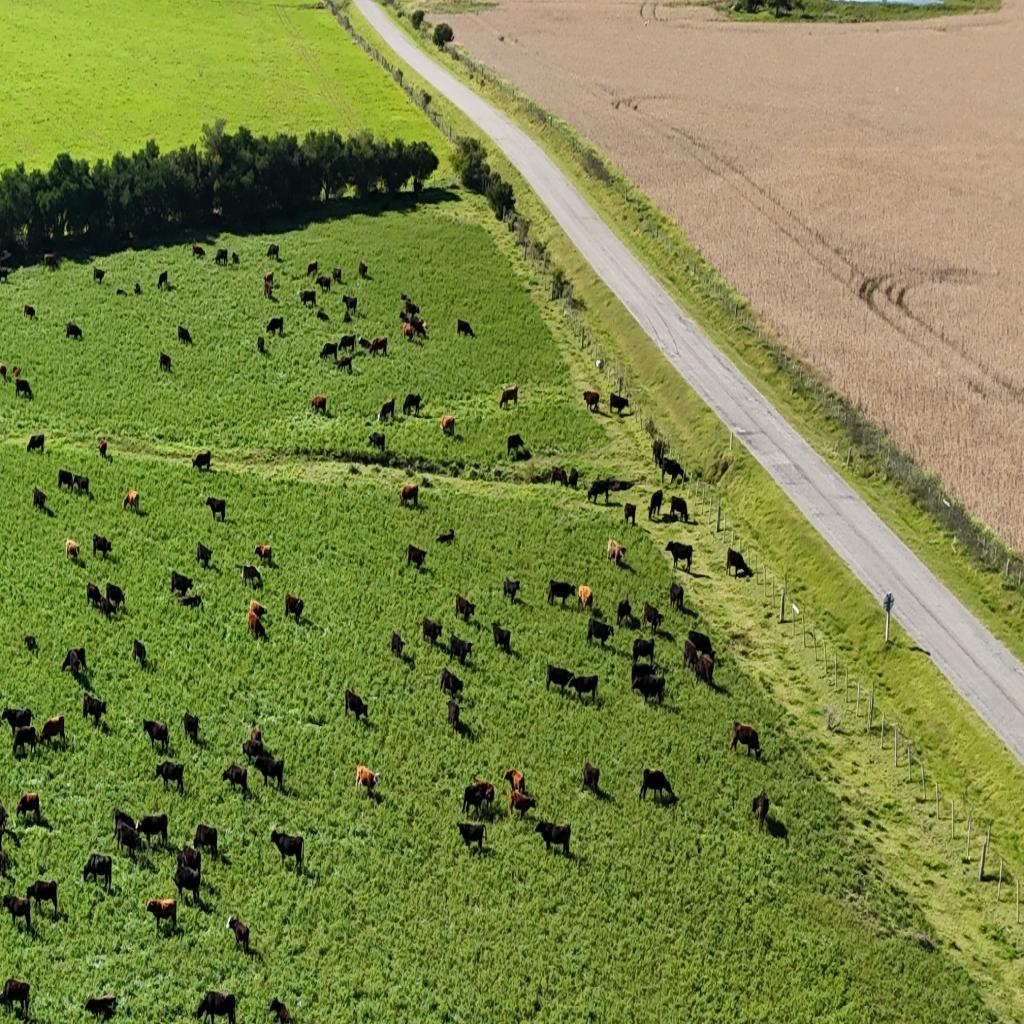cow: (193, 989, 236, 1024), (270, 828, 304, 872), (535, 818, 570, 858), (25, 879, 59, 919), (146, 894, 178, 935), (2, 893, 33, 935), (640, 767, 674, 805), (630, 670, 664, 708), (173, 862, 201, 906), (462, 780, 494, 818), (82, 852, 113, 891), (0, 978, 30, 1018), (136, 812, 169, 848), (731, 722, 760, 760), (84, 993, 118, 1024), (114, 822, 141, 861), (566, 674, 598, 706), (154, 760, 184, 794), (192, 822, 218, 861), (225, 913, 249, 954), (458, 821, 486, 856), (258, 754, 284, 790), (12, 724, 38, 760), (1, 705, 32, 735), (508, 789, 536, 822), (221, 764, 248, 798), (546, 663, 573, 697), (664, 540, 693, 571), (112, 806, 138, 840), (586, 616, 612, 650), (39, 715, 65, 749), (142, 718, 169, 750), (16, 790, 42, 823), (546, 579, 574, 609), (177, 842, 201, 876), (83, 693, 107, 727), (660, 457, 686, 488), (344, 687, 368, 720), (751, 789, 769, 833), (355, 762, 381, 792), (694, 652, 715, 689), (631, 635, 655, 667), (448, 634, 472, 666), (440, 666, 464, 698), (726, 547, 749, 579), (641, 601, 663, 634), (62, 647, 86, 677), (421, 615, 443, 647), (267, 997, 291, 1024), (587, 478, 610, 506), (492, 624, 512, 656), (454, 592, 475, 622), (106, 582, 126, 613), (582, 760, 600, 794), (284, 592, 304, 622), (503, 768, 526, 794), (170, 570, 192, 597), (96, 594, 117, 622), (406, 544, 427, 572), (446, 698, 462, 734), (683, 636, 699, 672), (242, 738, 265, 763), (86, 581, 105, 611), (606, 538, 626, 566), (182, 711, 200, 742), (608, 392, 630, 416), (616, 598, 633, 629), (502, 577, 520, 606), (92, 533, 112, 559), (206, 496, 226, 522), (402, 392, 422, 418), (399, 483, 419, 509), (498, 384, 518, 410), (669, 580, 685, 612), (241, 564, 262, 588), (670, 496, 688, 523), (390, 630, 406, 660), (648, 488, 663, 520), (581, 389, 600, 414), (377, 397, 395, 423), (191, 450, 211, 473), (506, 433, 524, 458), (196, 540, 212, 568), (577, 584, 593, 612), (14, 378, 32, 402), (123, 488, 139, 515), (607, 478, 634, 494), (534, 468, 558, 486), (133, 638, 147, 668), (254, 543, 273, 565), (651, 438, 664, 470), (250, 615, 266, 641), (176, 594, 201, 610), (550, 466, 568, 488), (248, 599, 266, 621), (369, 336, 388, 356), (338, 334, 356, 355), (266, 316, 284, 337), (58, 469, 74, 492), (64, 538, 80, 561), (319, 342, 338, 361), (32, 486, 47, 510), (401, 298, 419, 318), (27, 434, 45, 454), (74, 475, 90, 497), (0, 845, 11, 877), (623, 501, 636, 528), (368, 432, 385, 452), (342, 294, 358, 315), (311, 394, 327, 415), (440, 414, 455, 436), (436, 528, 454, 546), (336, 355, 352, 375), (316, 274, 332, 294), (457, 318, 473, 338), (65, 322, 82, 340), (300, 289, 316, 308), (0, 801, 9, 834), (158, 352, 172, 373), (178, 325, 192, 346), (263, 273, 274, 299), (402, 322, 416, 342), (24, 635, 38, 654), (250, 723, 262, 745), (157, 270, 169, 290), (214, 249, 228, 266), (568, 467, 578, 490), (192, 243, 206, 259), (43, 253, 57, 269), (97, 436, 107, 458), (358, 336, 372, 351), (267, 244, 279, 261), (0, 267, 11, 285), (23, 304, 36, 319), (399, 308, 411, 324), (93, 268, 105, 284), (419, 317, 429, 336), (307, 260, 318, 277), (358, 261, 368, 279), (332, 267, 342, 285), (417, 302, 429, 317), (0, 363, 9, 381), (413, 179, 423, 195), (343, 308, 352, 324), (400, 292, 412, 304), (317, 310, 329, 322), (0, 250, 12, 262), (257, 335, 264, 354), (12, 366, 20, 382), (231, 252, 239, 265), (134, 282, 141, 295), (116, 288, 127, 296)
